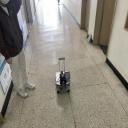cart: (56, 70, 70, 94)
